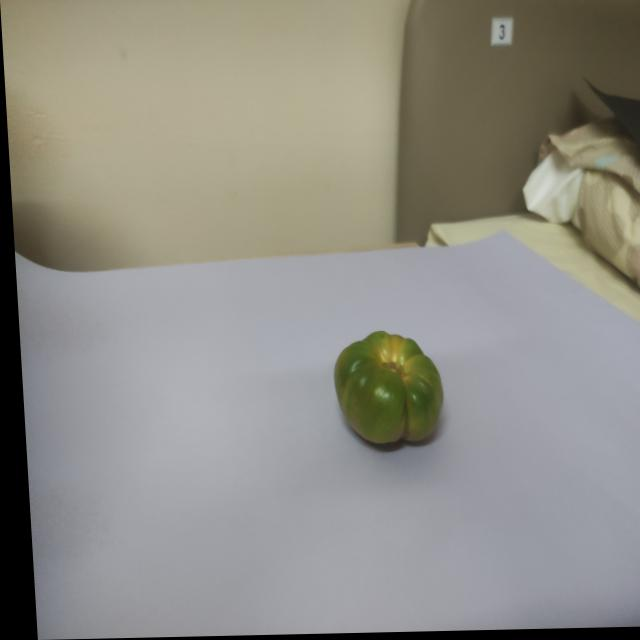yesil: (313, 322, 452, 450)
